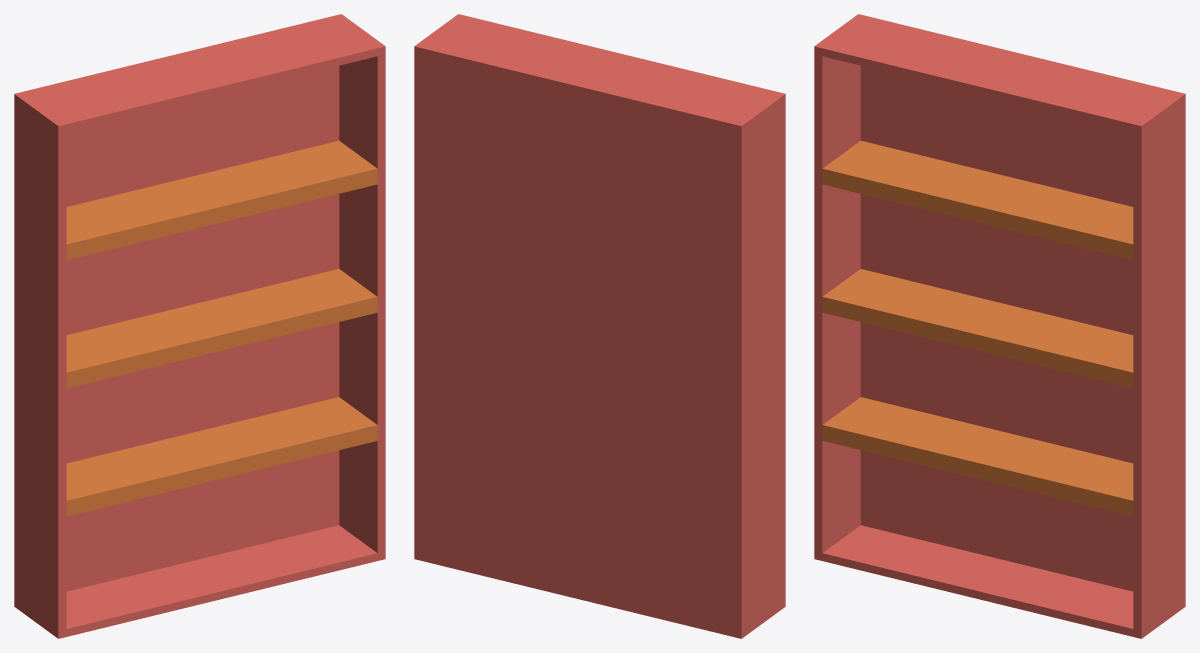
File: bookshelf.fbx
3 views of the same model, side by side, from view 1: azimuth 30°, elevation 25°; view 2: azimuth 150°, elevation 25°; view 3: azimuth 330°, elevation 25° (orthographic).
Visible parts, largest first — view 1: etagere; view 2: etagere; view 3: etagere.
Boxes of the visible parts, x1=… form: etagere: x1=14, y1=14, x2=385, y2=638; etagere: x1=414, y1=14, x2=785, y2=638; etagere: x1=814, y1=14, x2=1185, y2=638.
Bounding box in the file's own units: 355 × 532 × 83.21.
